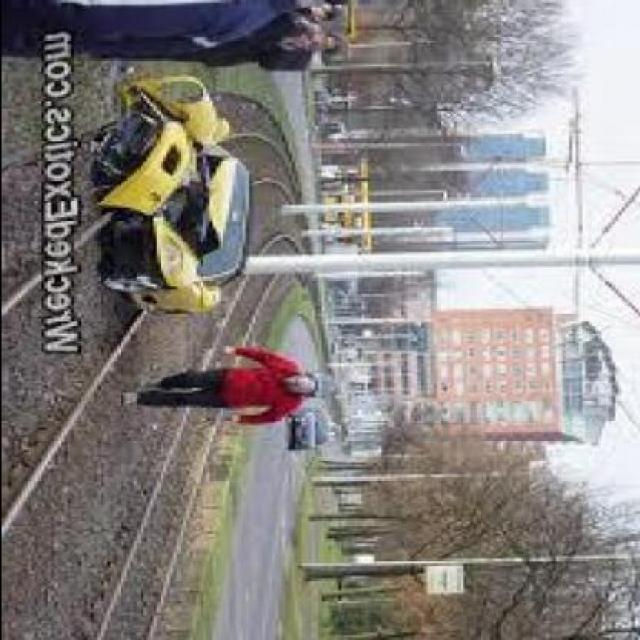damage: (98, 75, 236, 275)
